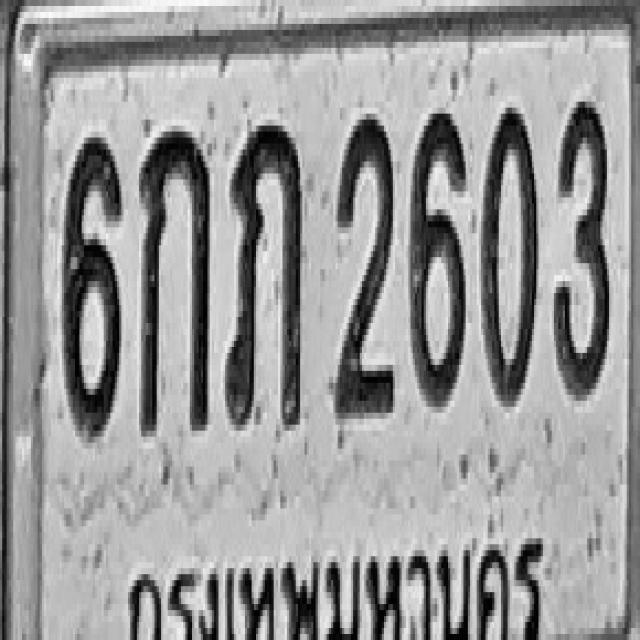0: (480, 99, 537, 404)
10GorGai: (139, 122, 210, 434)
2: (334, 110, 394, 422)
3: (554, 96, 609, 394)
41PhorSamPhao: (224, 120, 303, 430)
6: (62, 132, 121, 436), (410, 108, 466, 406)
